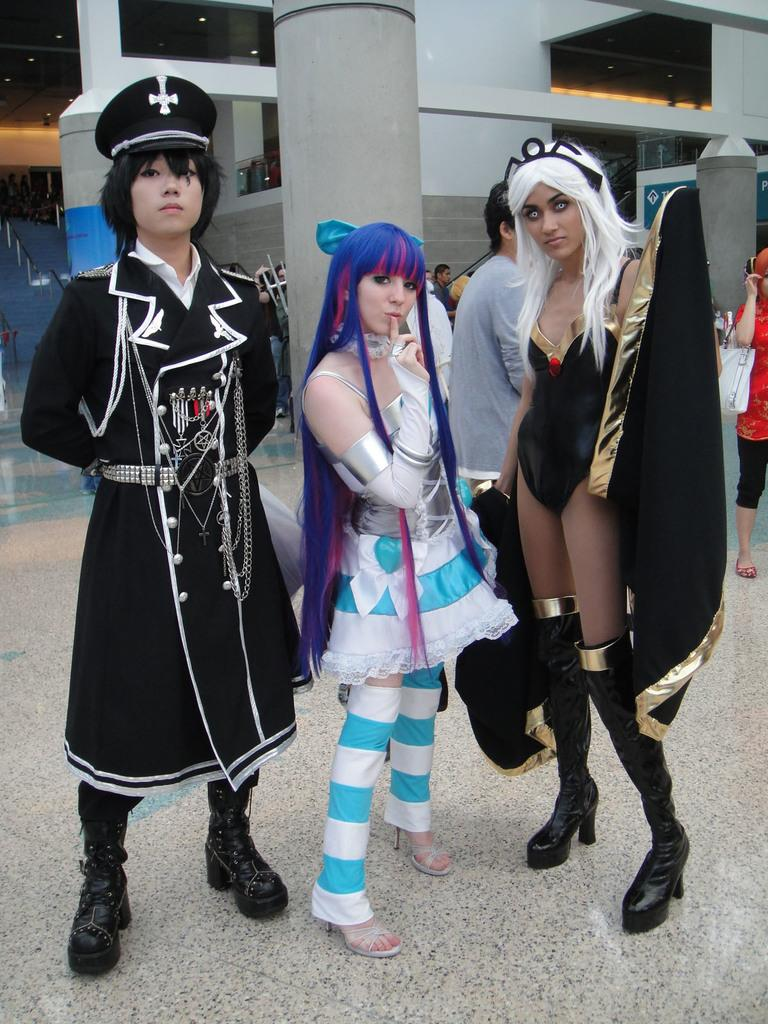Hat: (92, 76, 216, 164)
